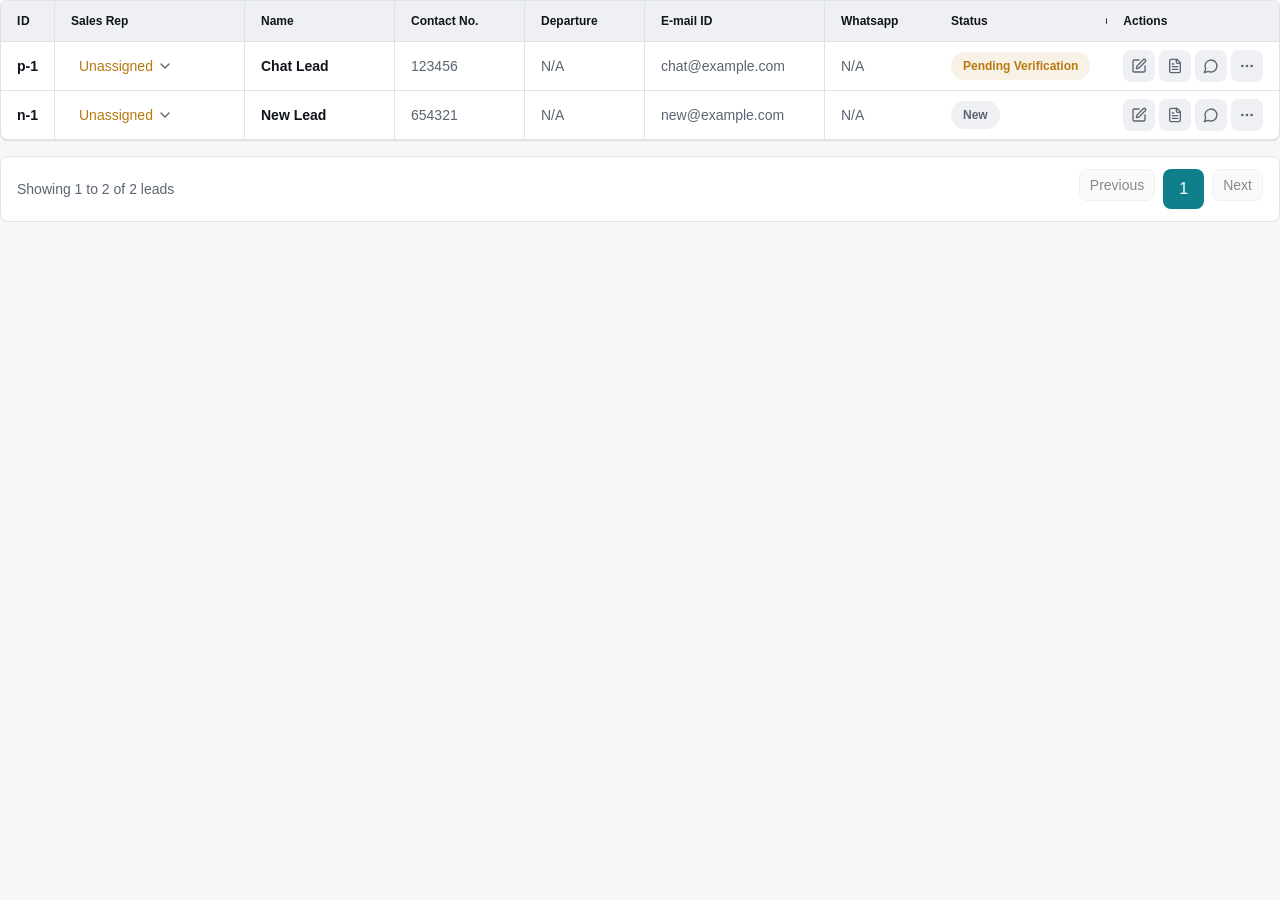
Test: LeadTable — PENDING_VERIFICATION claim action › offers the Claim action in the overflow menu of a PENDING_VERIFICATION row
Click the button named "more actions" in the row of "p-1": x=1247, y=66 x1=1231 y1=50 x2=1263 y2=82
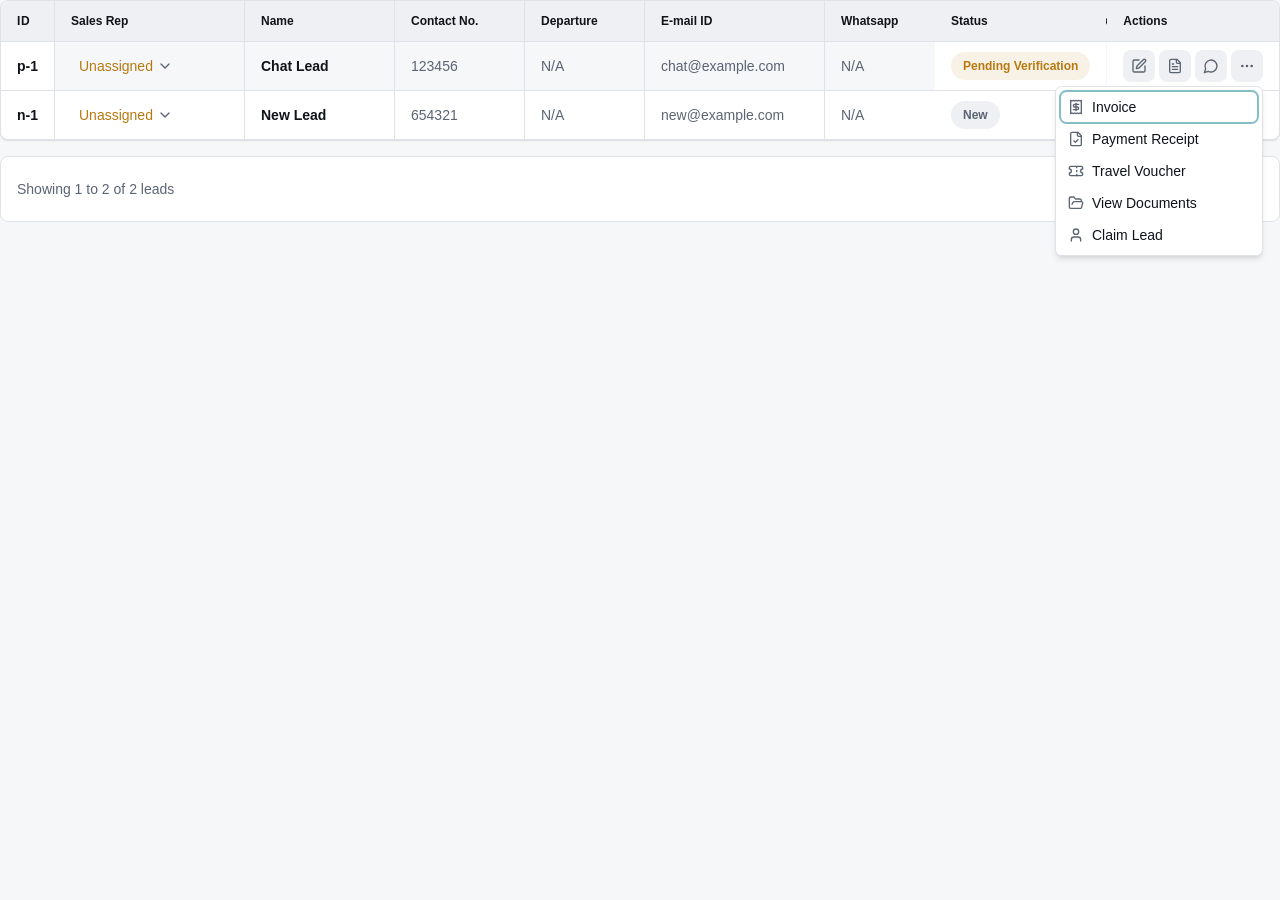
Now the button "Claim Lead" is shown, box x1=1060 y1=219 x2=1258 y2=251
